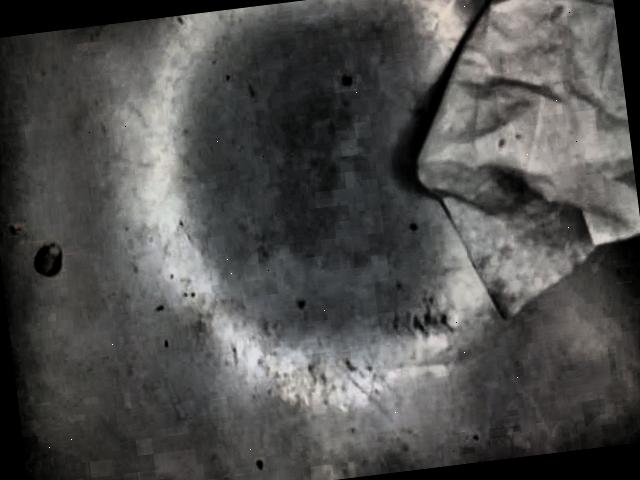Paper: (414, 0, 640, 315)
